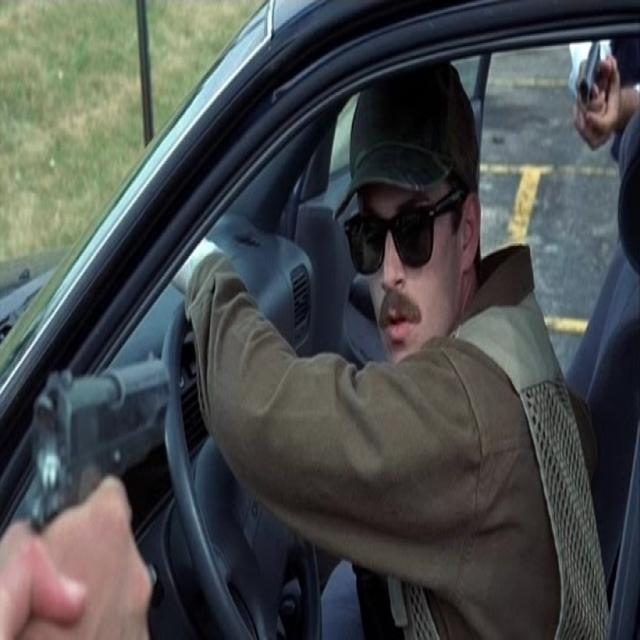gun-knife-thesis - v11 Yolov5 augmented: (16, 348, 185, 597), (566, 33, 620, 151)
